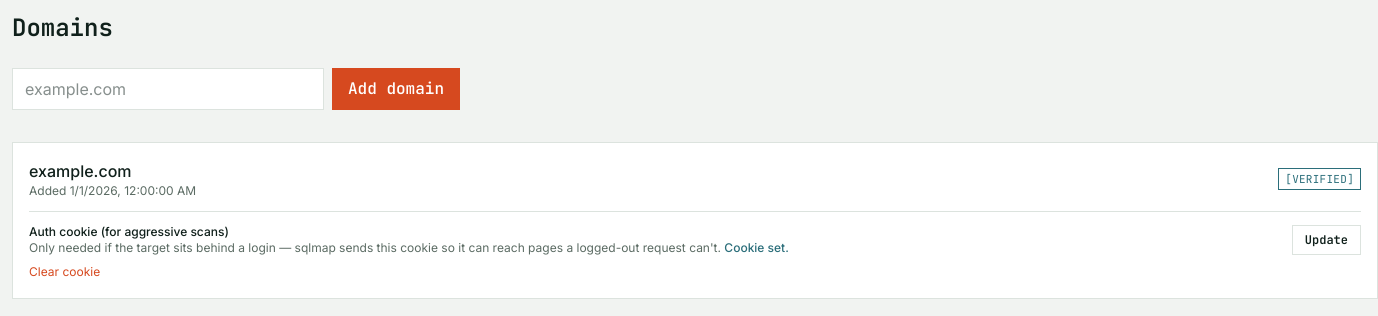
Domains › clears an existing auth cookie
Expected: the button "Update" is shown, left=1292, top=225, right=1361, bottom=255
Click the button "Clear cookie" at (65, 272), box left=29, top=264, right=100, bottom=280
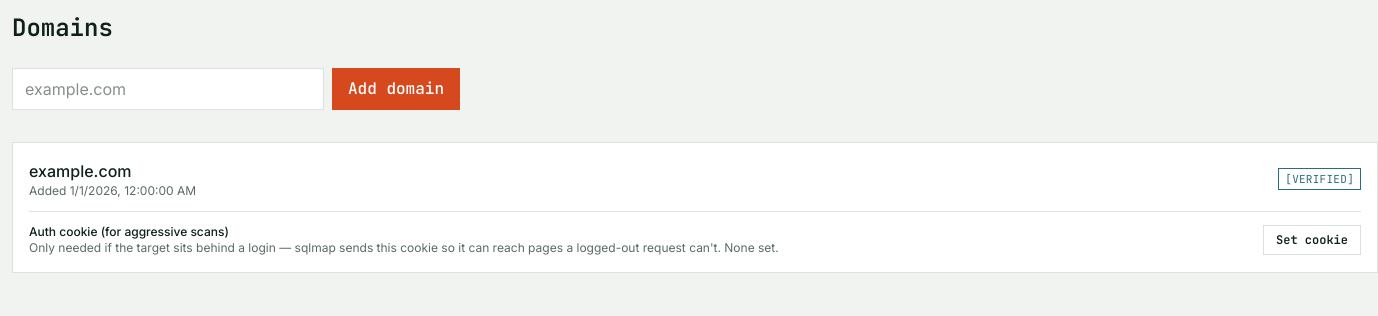
Now the text "None set." is shown, box left=724, top=240, right=779, bottom=255
